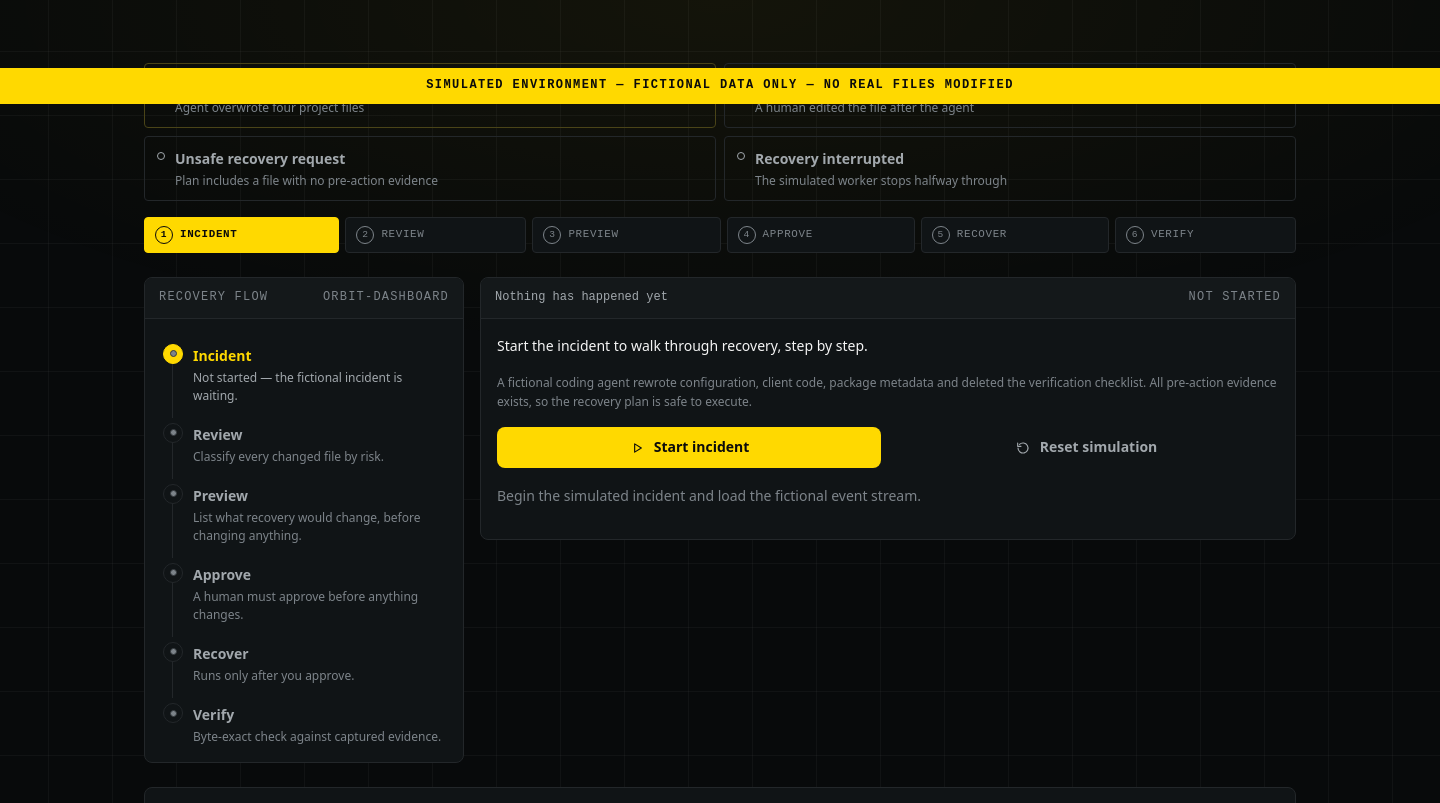
Test: Demo page — state transitions through the UI › walks scenario A to a verified result
The image size is (1440, 803).
(page scrolled)
Click the button "Start incident".
click(689, 448)  # box [497, 427, 881, 468]
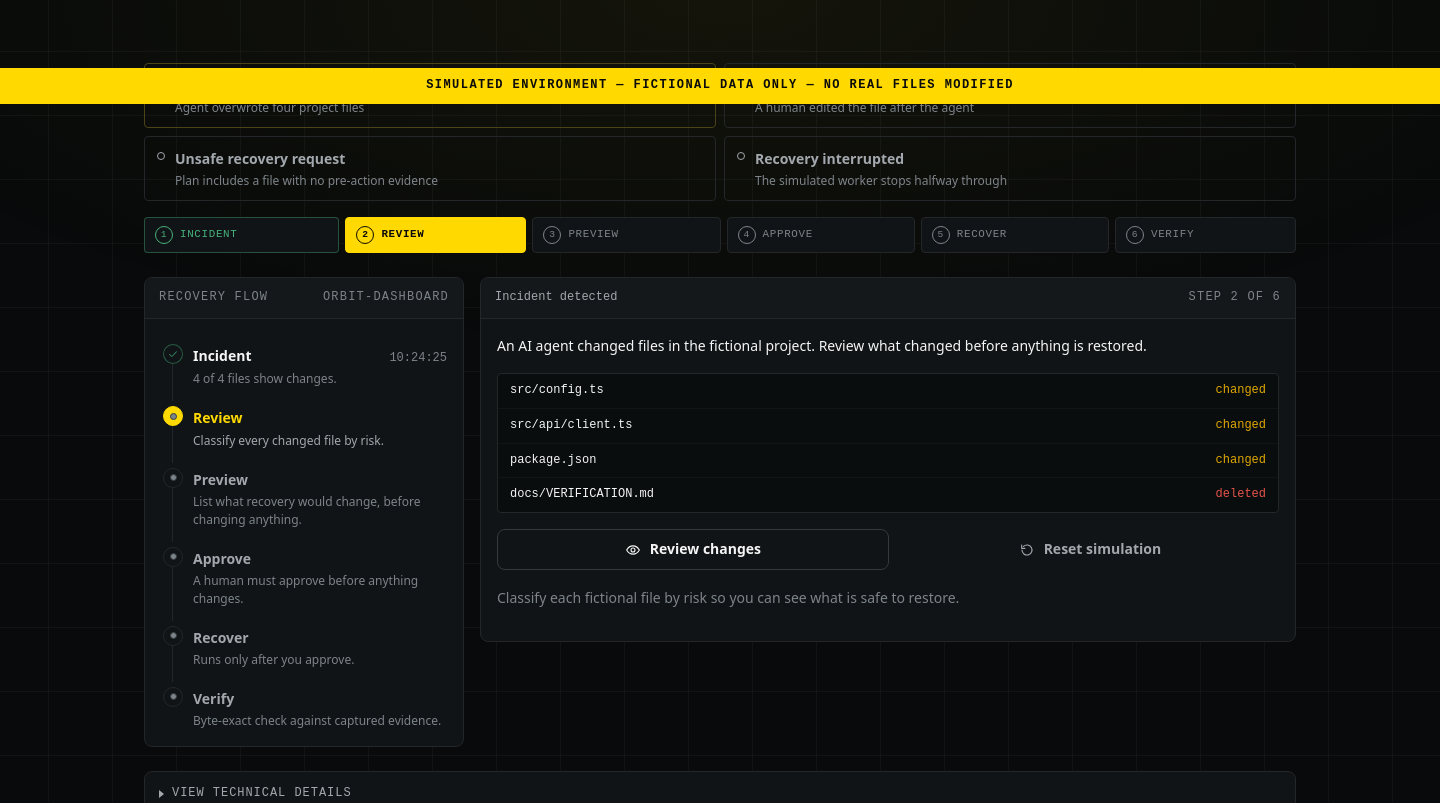
Click the button "Review changes".
click(693, 550)  # box [497, 529, 889, 570]
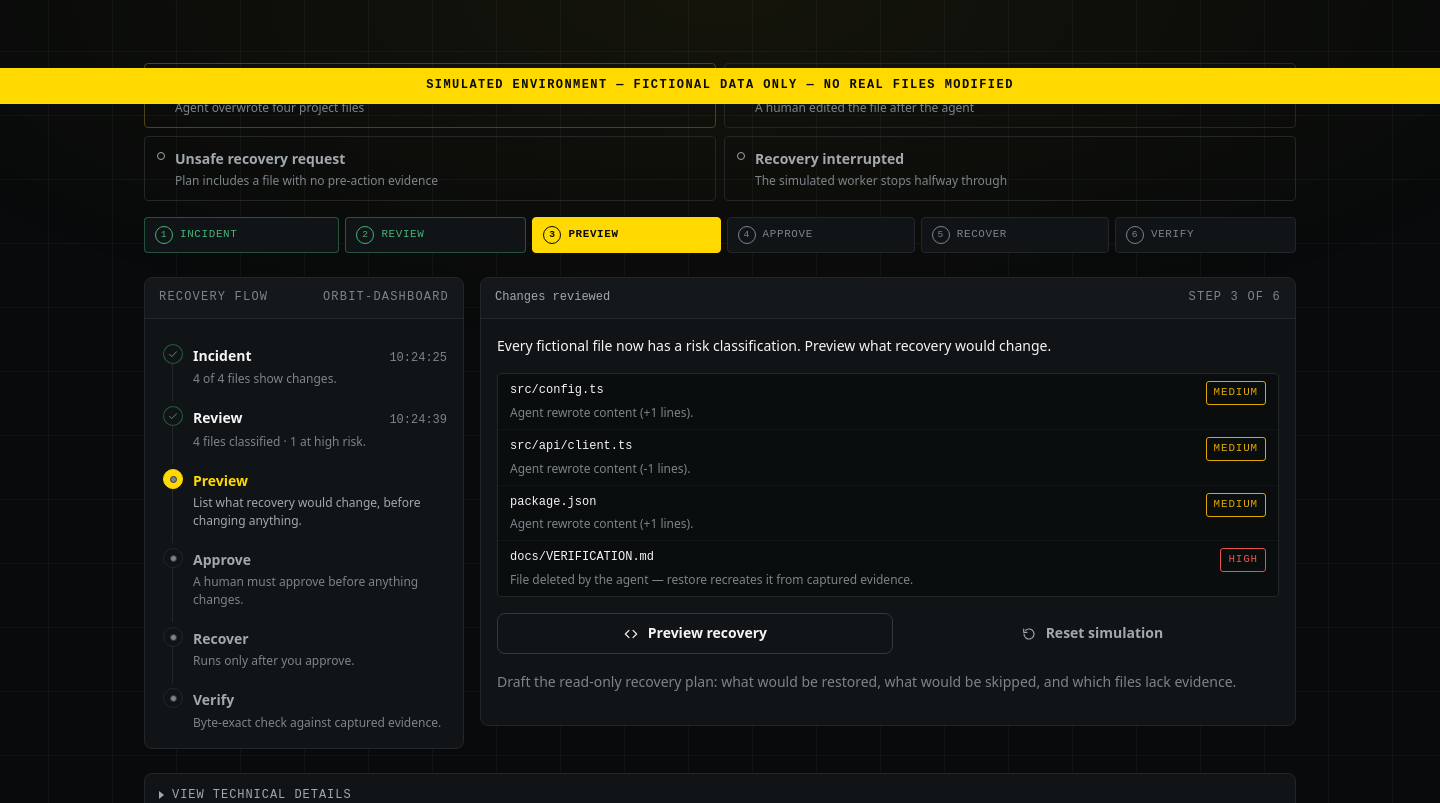
Click the button "Preview recovery".
click(695, 634)  # box [497, 613, 893, 654]
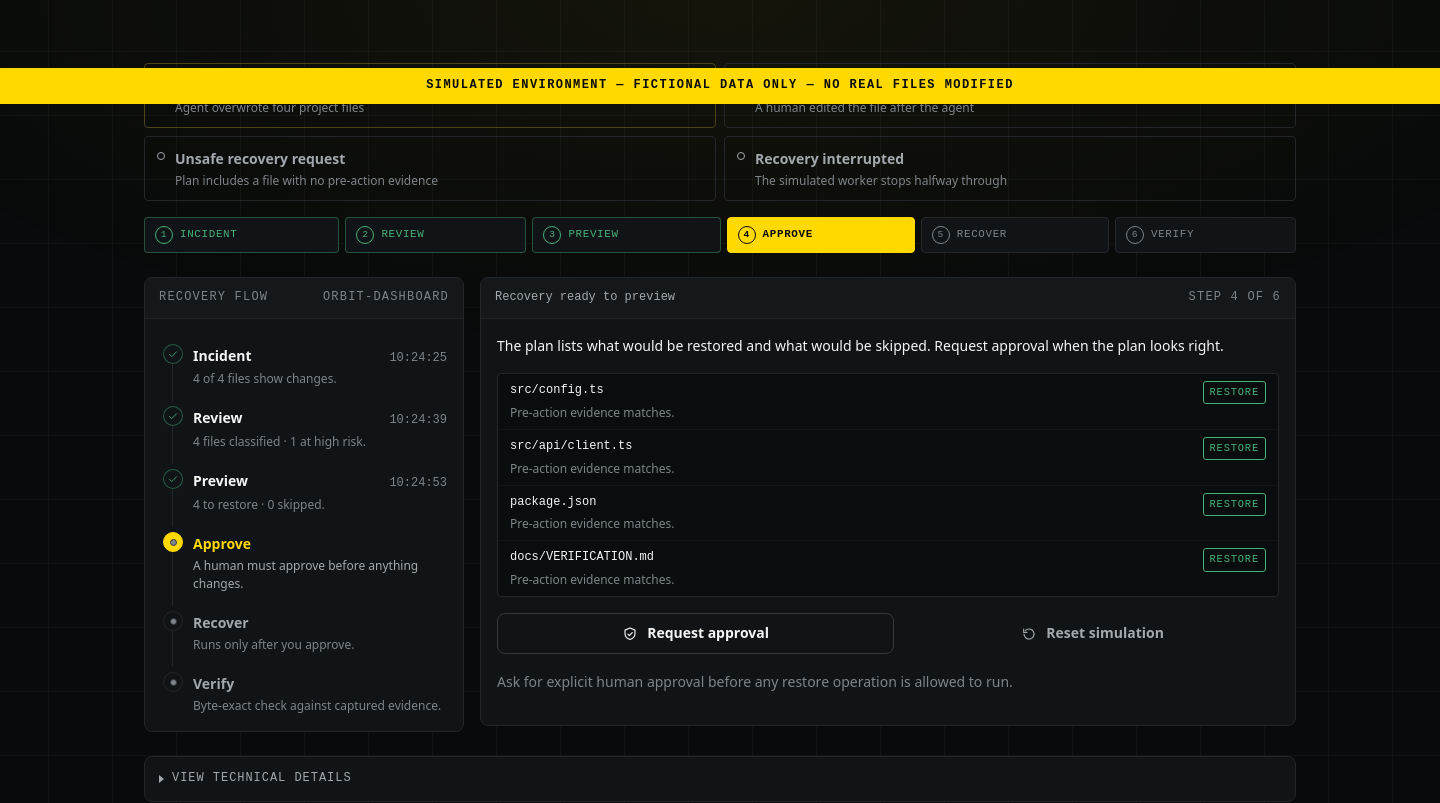
Click the button "Request approval".
click(696, 634)  # box [497, 613, 894, 654]
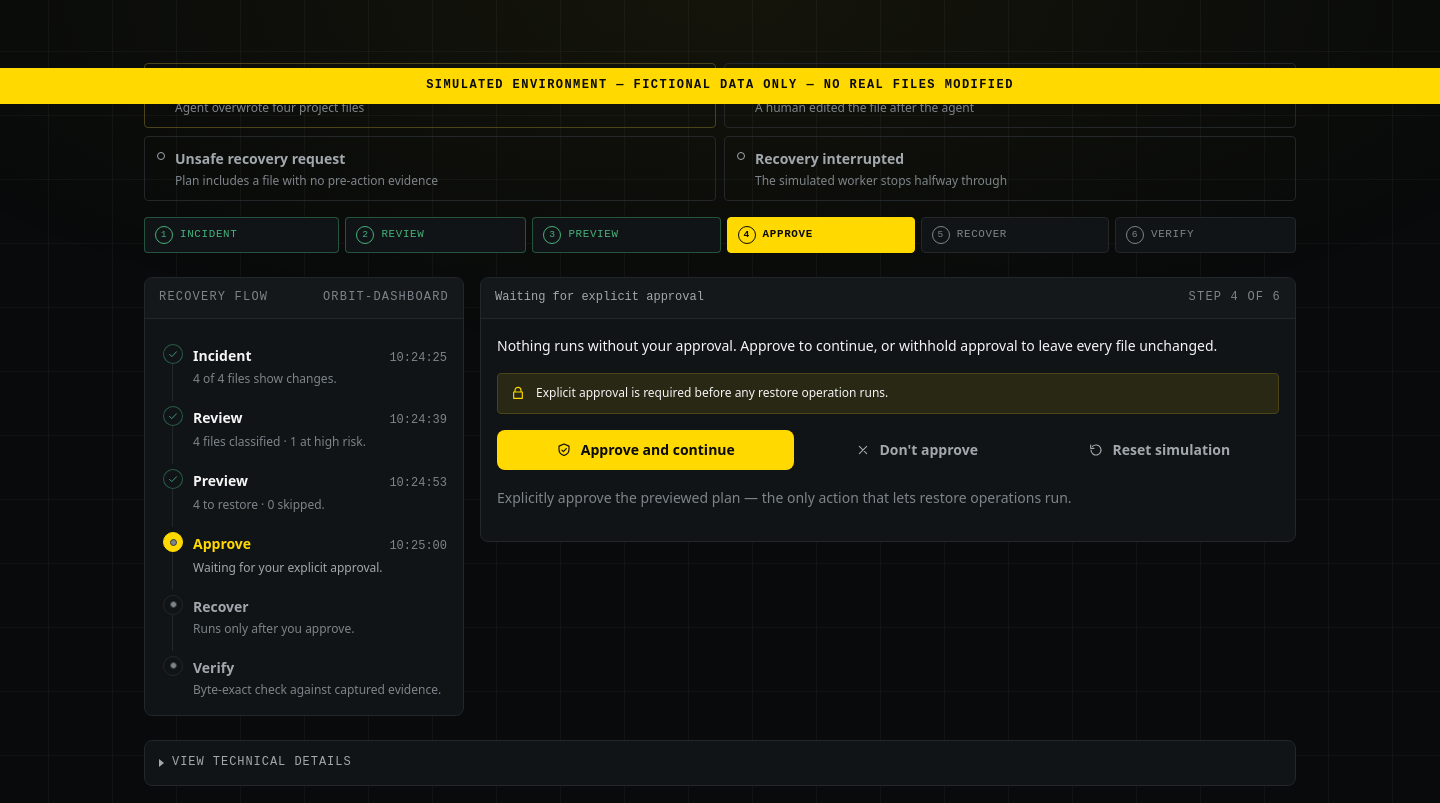
Result: the heading "Waiting for explicit approval" is shown at [495, 288, 704, 308]
Click the button "Approve and continue".
click(645, 450)  # box [497, 430, 794, 470]
Wait 9000 ms
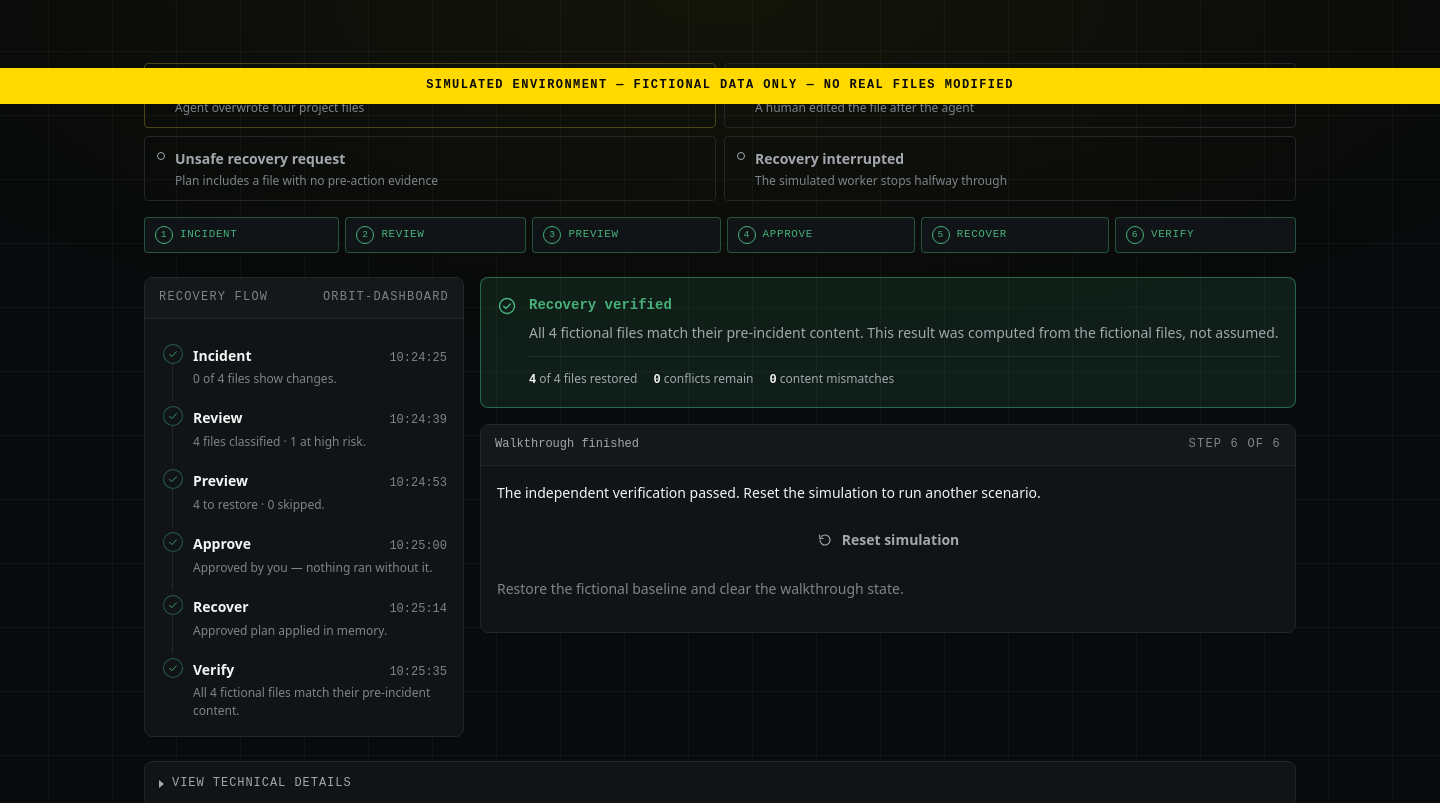
Result: the text "Recovery verified" is shown at [529, 297, 672, 313]
